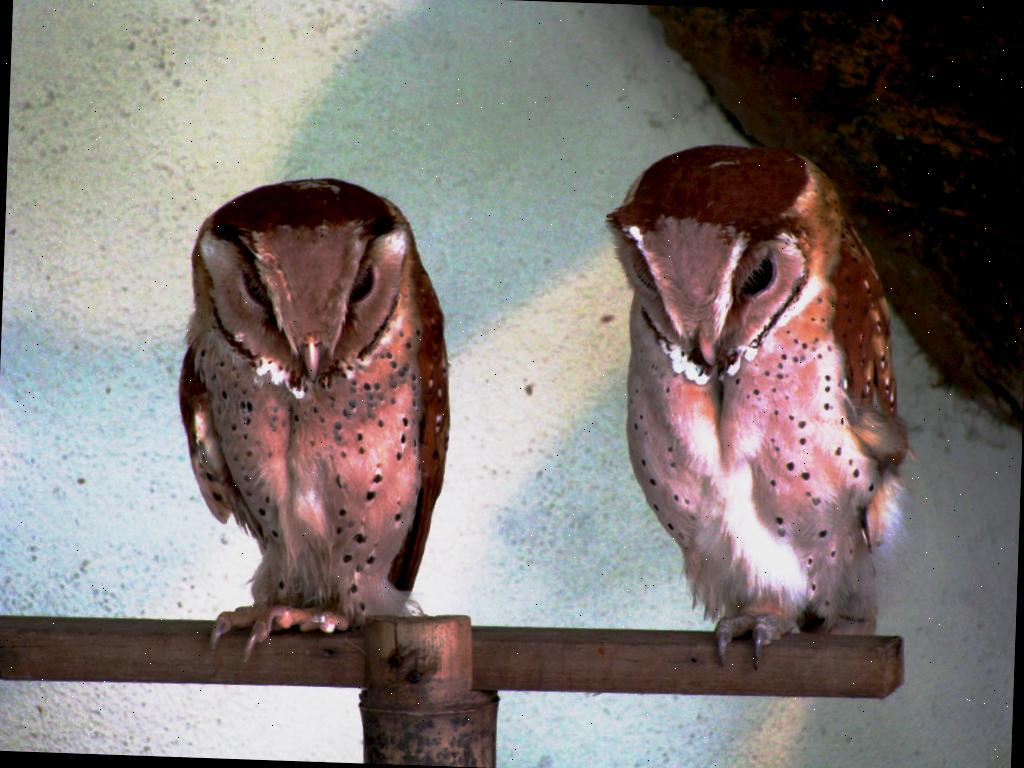Owl: (596, 135, 936, 680), (171, 173, 466, 672)
